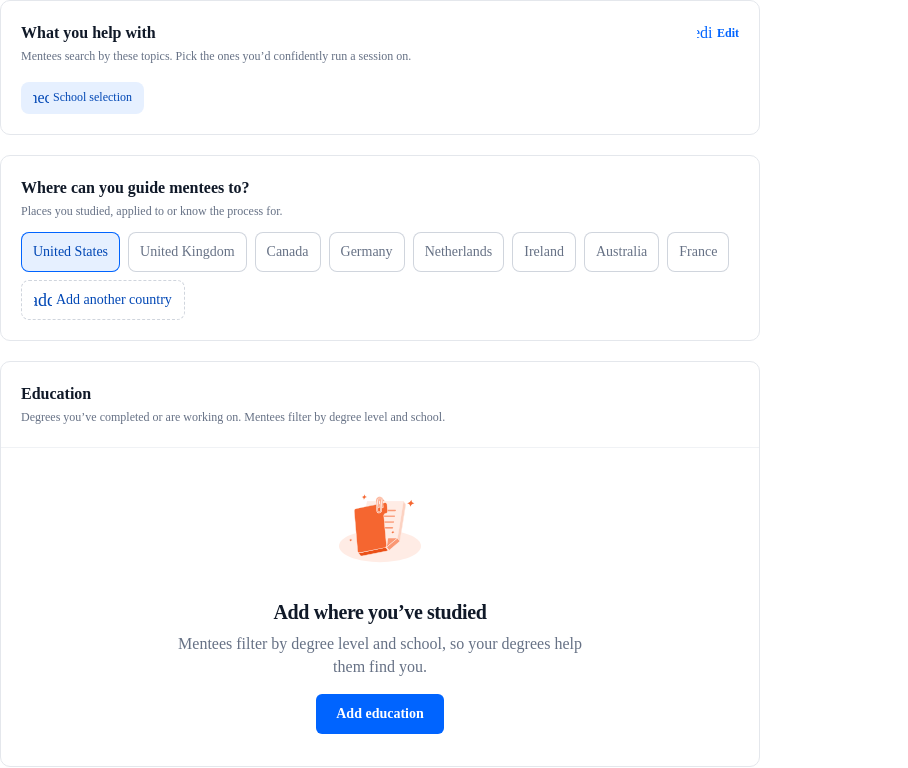
Test case: ExpertisePanel › countries save with the bar, in the order picked
This screenshot has width=908, height=768.
Expected: the element "Unsaved changes" is not shown
Click the button "Canada". click: (288, 252)
box: top-left (254, 232), bottom-right (320, 272)
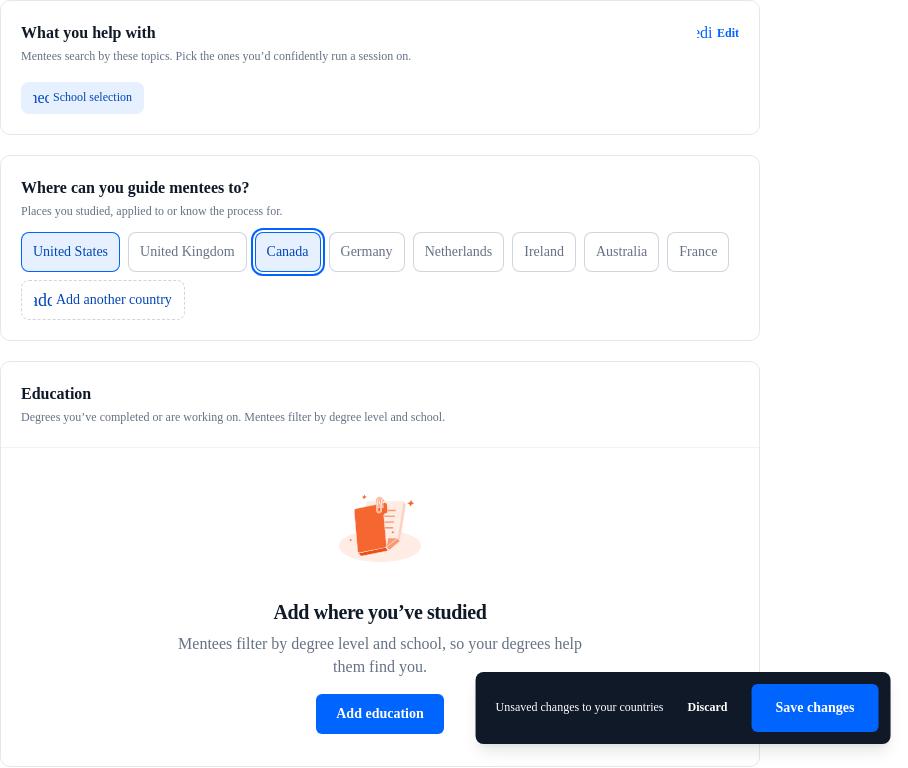
Now the element "Unsaved changes" shows "Unsaved changes to your countries", box top-left (496, 700), bottom-right (664, 714)
Click the button "Save changes". click: (815, 708)
box: top-left (752, 684), bottom-right (878, 732)
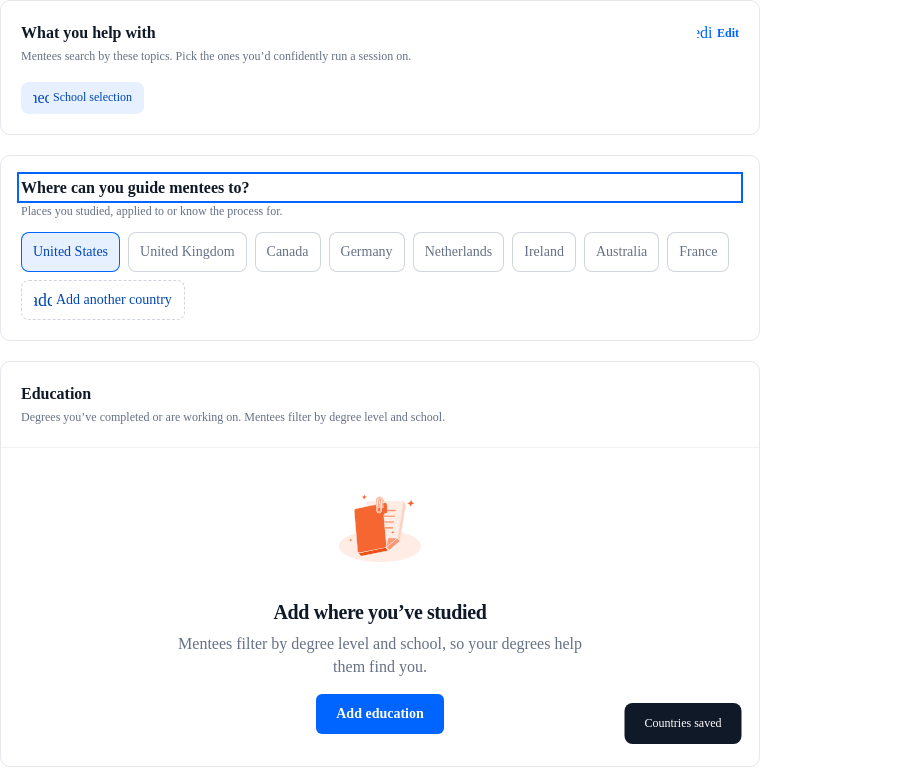
Now the text "Countries saved" is shown, box top-left (624, 703), bottom-right (742, 744)
Now the text "Unsaved changes" is gone
